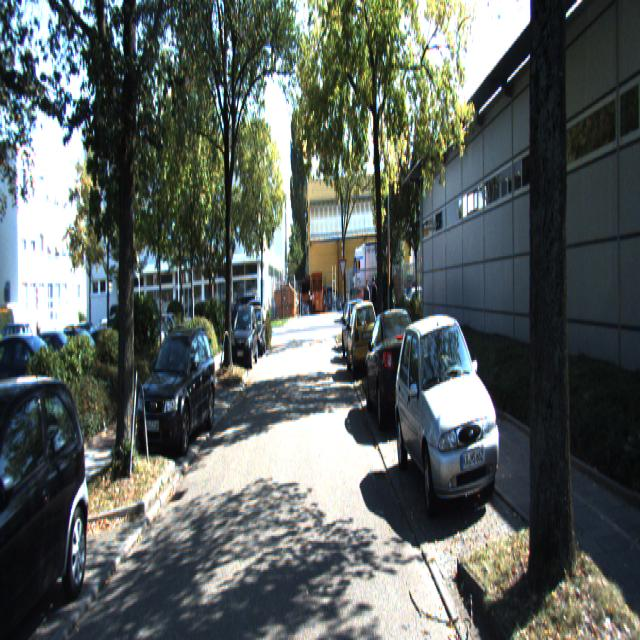Car: (0, 362, 96, 638), (393, 306, 507, 524), (137, 321, 217, 460), (364, 304, 428, 436), (346, 301, 380, 384), (231, 303, 259, 371), (341, 298, 368, 365), (245, 305, 266, 359)
DontCare: (2, 304, 124, 398), (404, 270, 437, 324)
